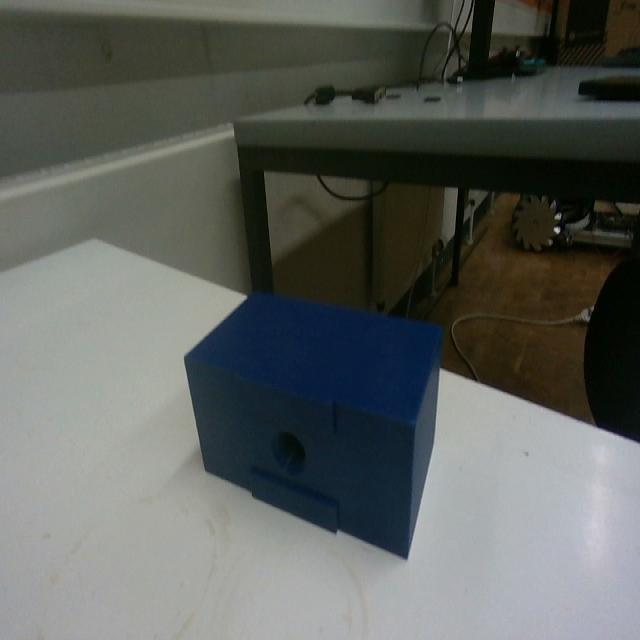Blue Cuboid: (181, 284, 446, 560)
